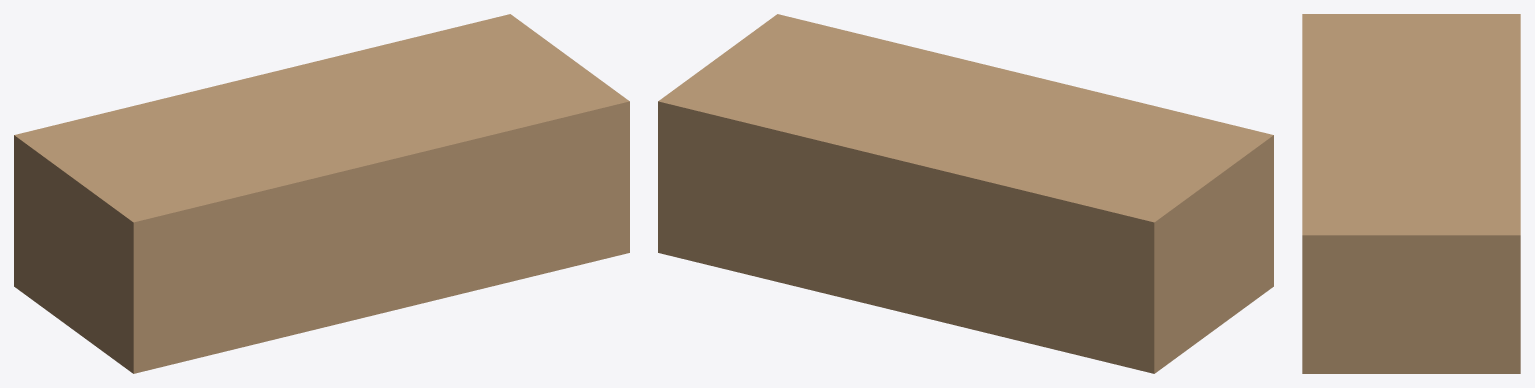
The model's file is Prop_Water_AMF_Trough_V1.glb.
3 renders of one model, left to right at view 1: azimuth 30°, elevation 25°; view 2: azimuth 150°, elevation 25°; view 3: azimuth 270°, elevation 25°, orthographic. The views are drawn at different scales.
Parts seen in each view (by area): view 1: Prop_Water_AMF_Trough_V1; view 2: Prop_Water_AMF_Trough_V1; view 3: Prop_Water_AMF_Trough_V1.
Boxes of the visible parts, x1,y1,x2,y2 form: Prop_Water_AMF_Trough_V1: [14, 14, 629, 373]; Prop_Water_AMF_Trough_V1: [658, 14, 1273, 373]; Prop_Water_AMF_Trough_V1: [1302, 14, 1520, 373].
Size of the model in its own units: 1.2 by 0.35 by 0.5.
